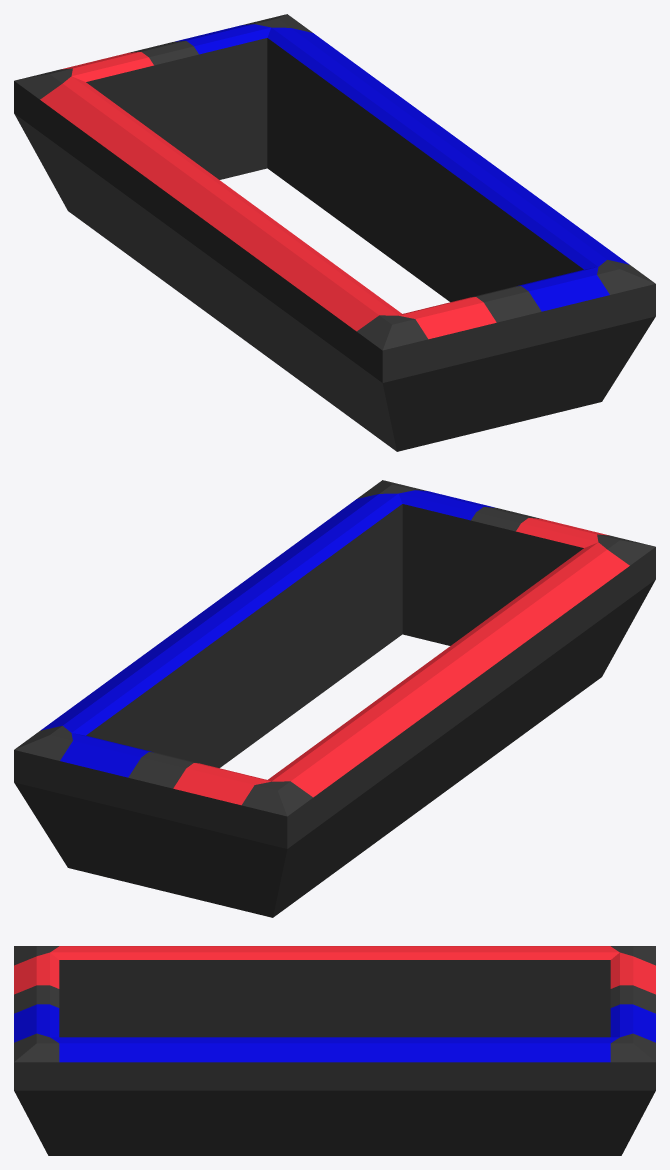
File: rim.fbx
3 renders of one model, top to bottom at view 1: azimuth 30°, elevation 25°; view 2: azimuth 150°, elevation 25°; view 3: azimuth 270°, elevation 25°, orthographic. The views are drawn at different scales.
Visible parts, largest first — view 1: Cube; view 2: Cube; view 3: Cube.
Boxes of the visible parts, left/top/right/bottom form: Cube: left=14, top=14, right=655, bottom=451; Cube: left=14, top=480, right=655, bottom=917; Cube: left=14, top=946, right=655, bottom=1155.
Bounding box in the file's own units: 120 × 56.46 × 280.
